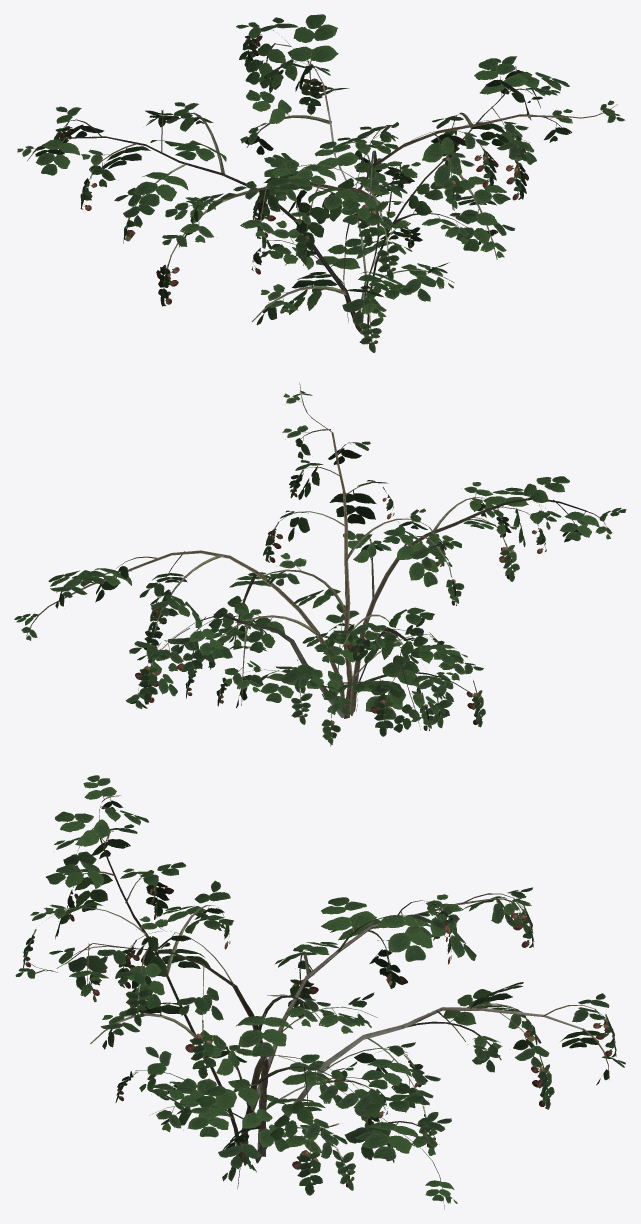
Rendered from arden_forest_raspberry_01.fbx.
3 views of the same model, one above another, from view 1: azimuth 30°, elevation 25°; view 2: azimuth 150°, elevation 25°; view 3: azimuth 270°, elevation 25° (orthographic). The views are drawn at different scales.
Parts seen in each view (by area): view 1: arden_forest_raspberry_01; view 2: arden_forest_raspberry_01; view 3: arden_forest_raspberry_01.
Part boxes in pixels (box(x1,y1,x2,y2)): arden_forest_raspberry_01: box(17, 14, 625, 352); arden_forest_raspberry_01: box(14, 382, 626, 746); arden_forest_raspberry_01: box(15, 775, 625, 1209).
Size of the model in its own units: 3.69 by 3.4 by 1.77.
